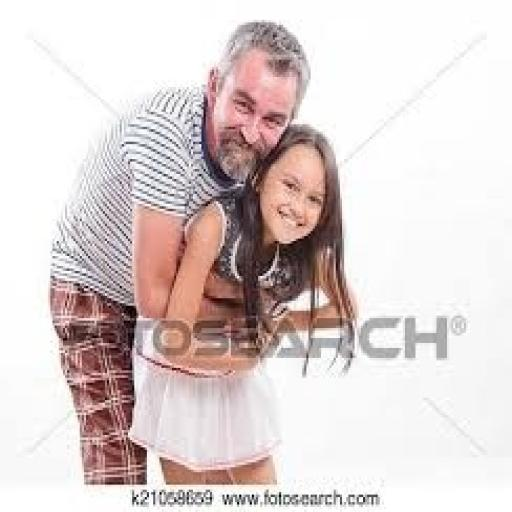hugging: (44, 17, 357, 485)
